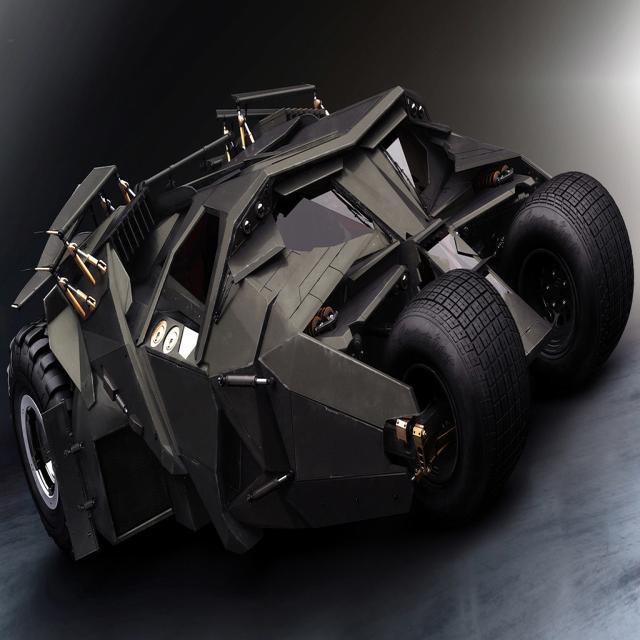car: (5, 82, 636, 587)
